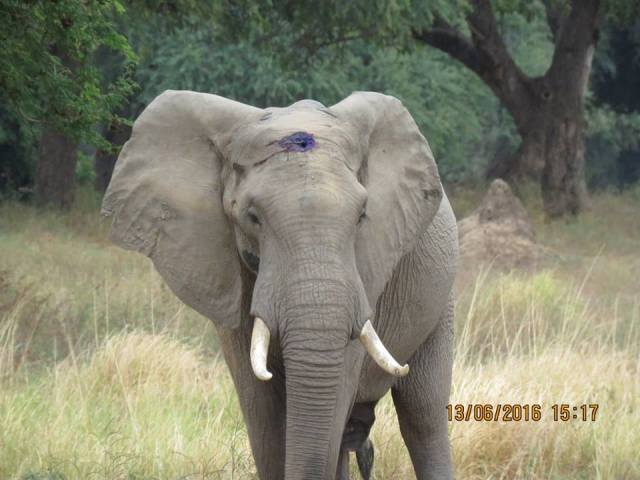elephant: (94, 80, 460, 480)
